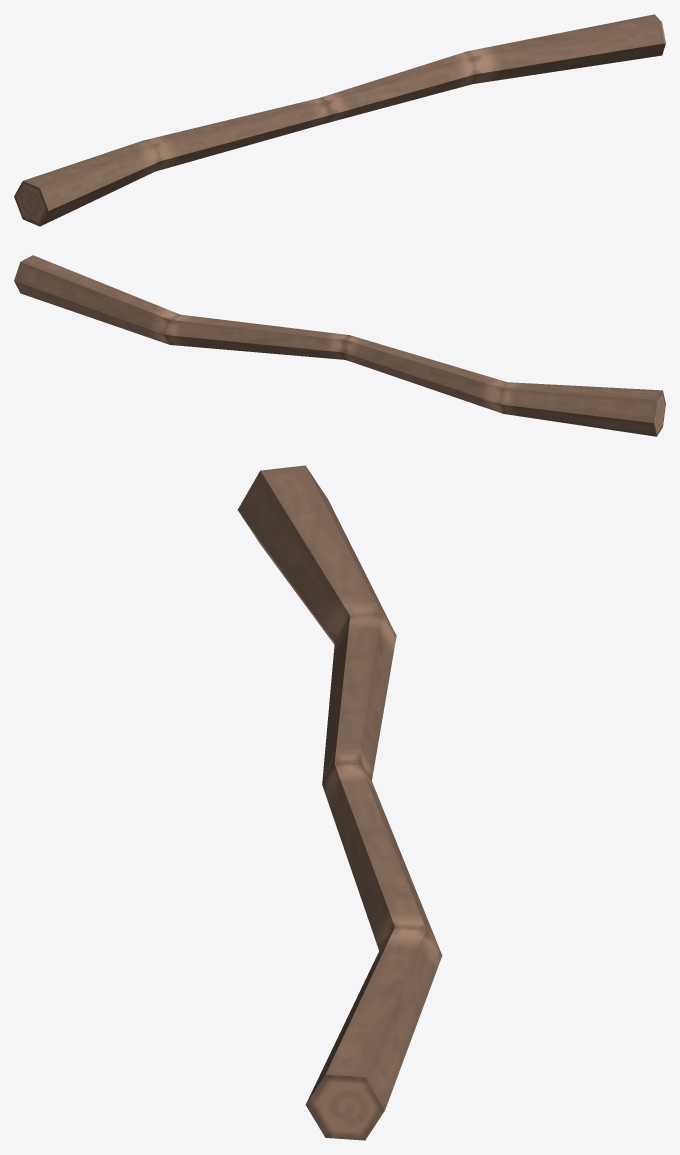
Rendered from Branch.fbx.
The picture shows the model from 3 angles, top to bottom: view 1: azimuth 30°, elevation 25°; view 2: azimuth 150°, elevation 25°; view 3: azimuth 270°, elevation 25°; orthographic projection. The views are drawn at different scales.
Parts seen in each view (by area): view 1: Cylinder; view 2: Cylinder; view 3: Cylinder.
Boxes of the visible parts, x1,y1,x2,y2 form: Cylinder: (14,14,665,226); Cylinder: (14,255,665,436); Cylinder: (238,465,442,1140).
Size of the model in its own units: 316 by 17.76 by 44.72.
Materials: 1 (1 with a texture image).
